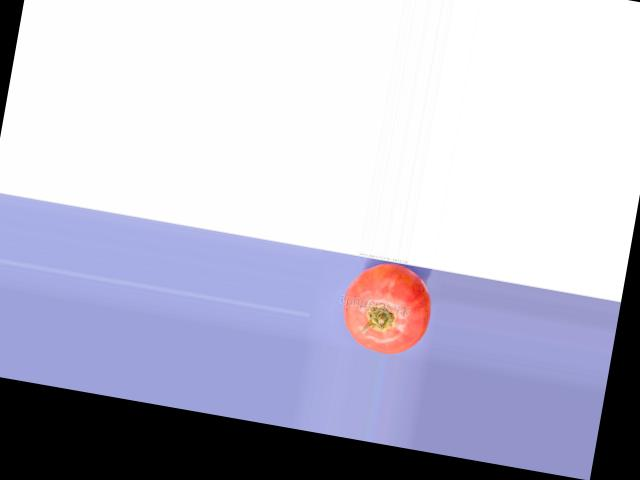tomato: (336, 258, 438, 359)
